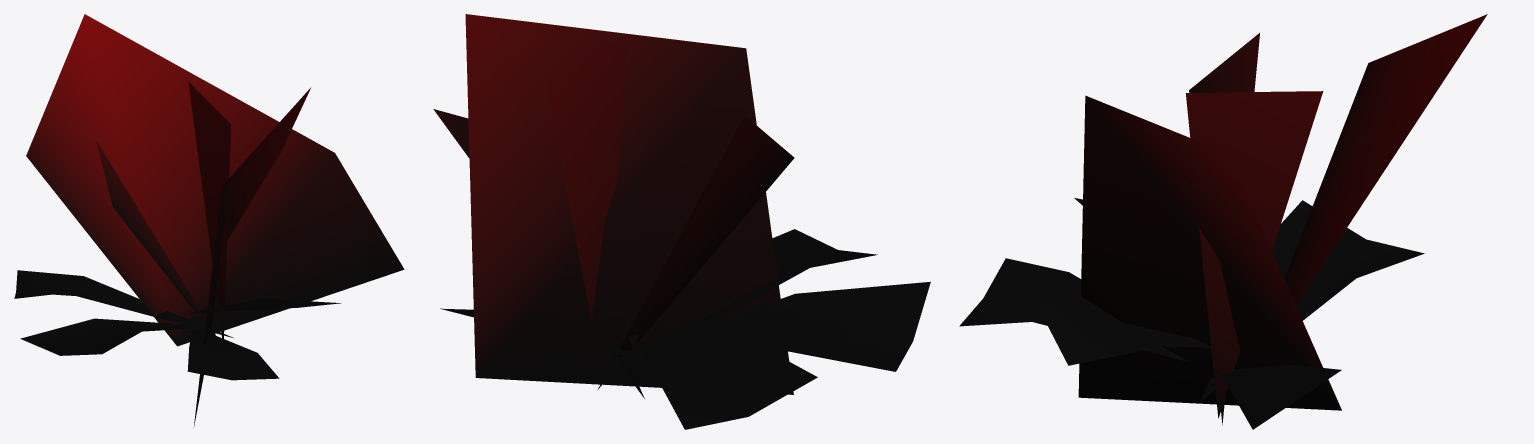
The model's file is herb_04.FBX.
3 renders of one model, left to right at view 1: azimuth 30°, elevation 25°; view 2: azimuth 150°, elevation 25°; view 3: azimuth 270°, elevation 25°, orthographic. The views are drawn at different scales.
Visible parts, largest first — view 1: herb_04_LOD0; view 2: herb_04_LOD0; view 3: herb_04_LOD0.
Part boxes in pixels (x1,y1,x2,y2): herb_04_LOD0: (14,14,404,427); herb_04_LOD0: (433,14,930,429); herb_04_LOD0: (959,14,1487,429).
Size of what is drawn, in the model's own units: 44.36 by 39.46 by 48.89.
